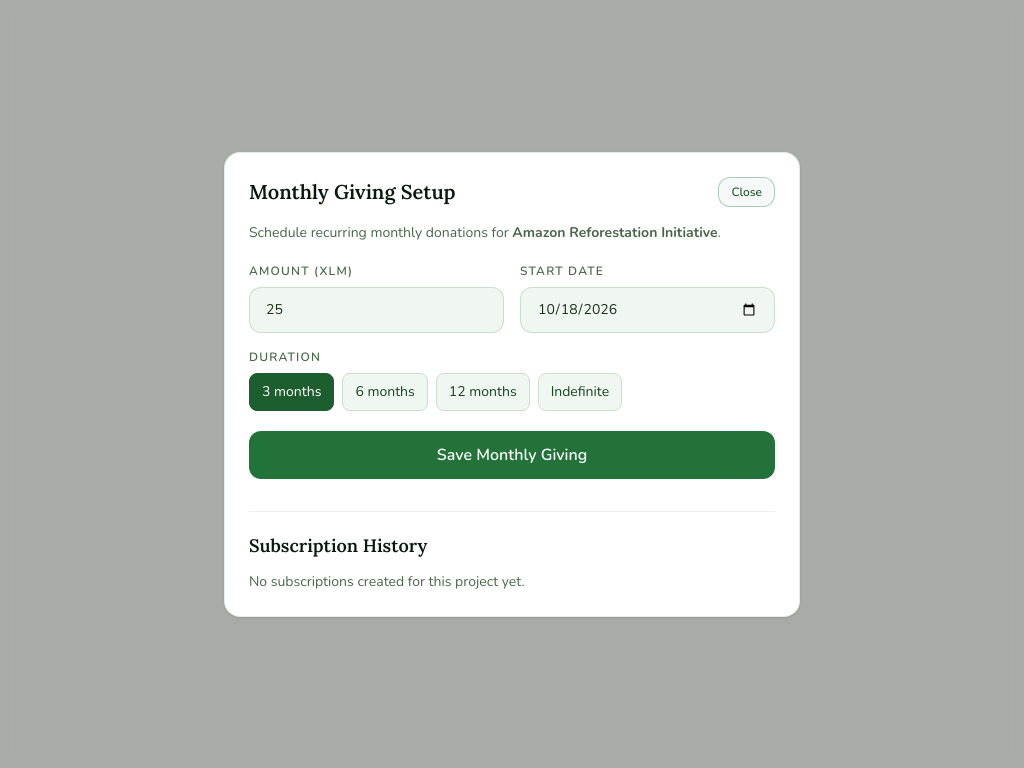
Test: MonthlyGivingSetup › requires a start date before opening the confirmation
Clear the date field labelled "Start Date": (648, 310) x1=520 y1=286 x2=775 y2=332
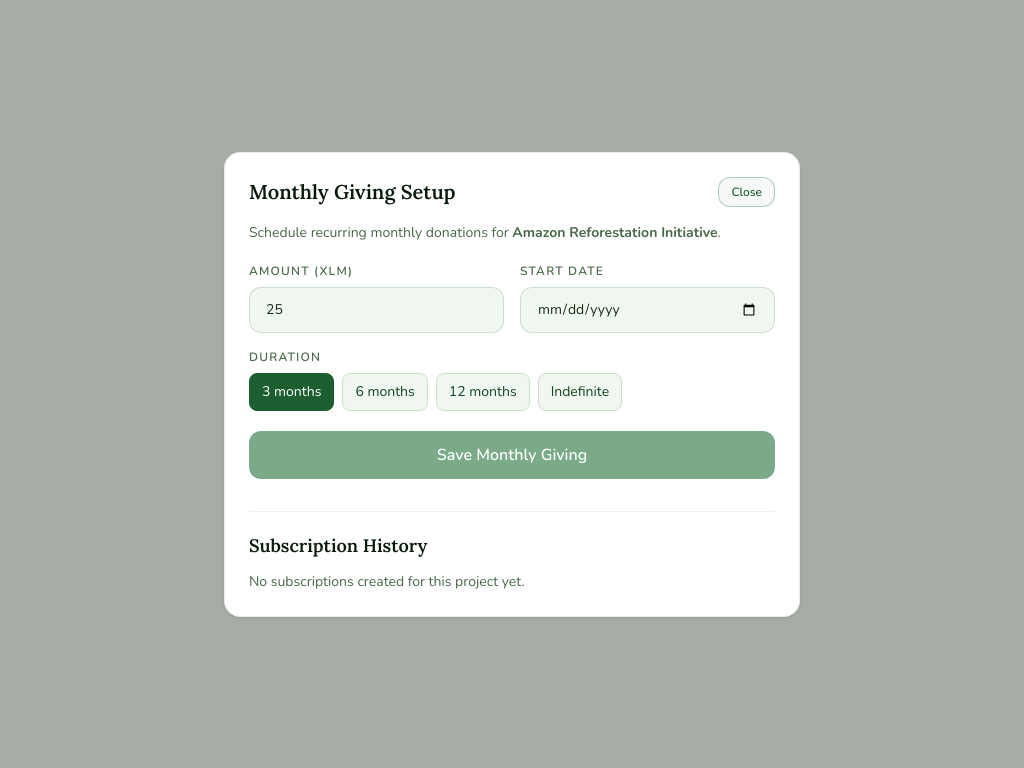
Expected: the button "Save Monthly Giving" is disabled, x1=249 y1=430 x2=775 y2=478
